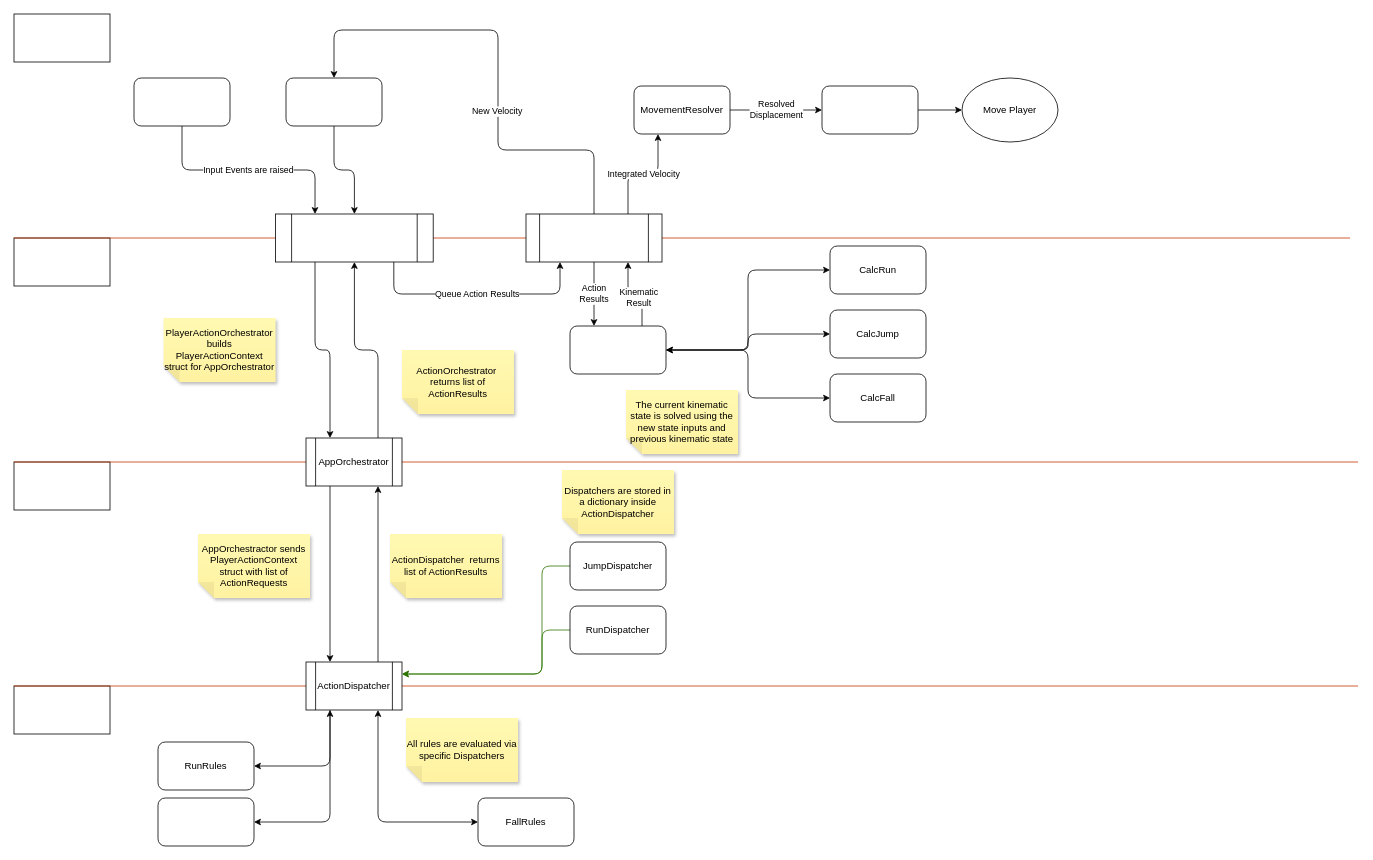
This 1373x860 diagram has some shape labels left out. The shapes that lost their labels are listed below. From the top down, each one's centre as x and y in pixels, then its label:
point 61,37: Unity Layer
point 181,101: Input Reader
point 333,101: PhysicsMonitor
point 869,109: MovementController
point 593,237: PlayerSimulationDriver
point 61,261: Feature Layer
point 617,349: KinematicSolver
point 61,485: Application Layer
point 61,709: Core Layer
point 205,821: JumpRules
